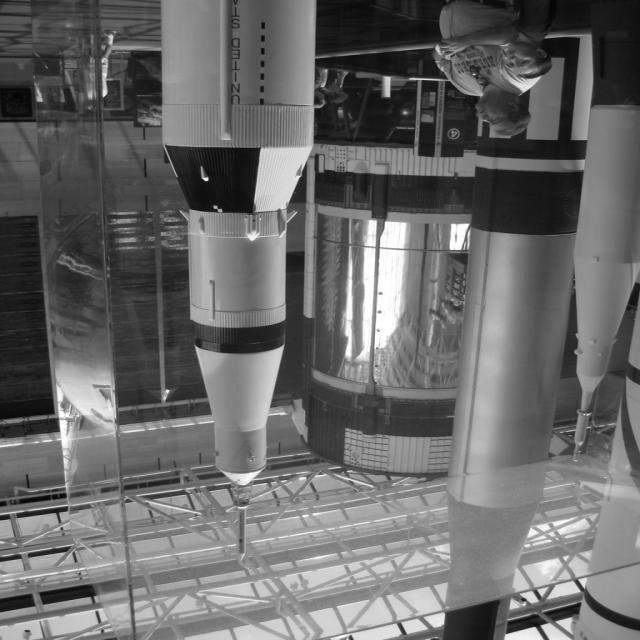missile: (133, 0, 332, 490), (572, 2, 640, 459)
